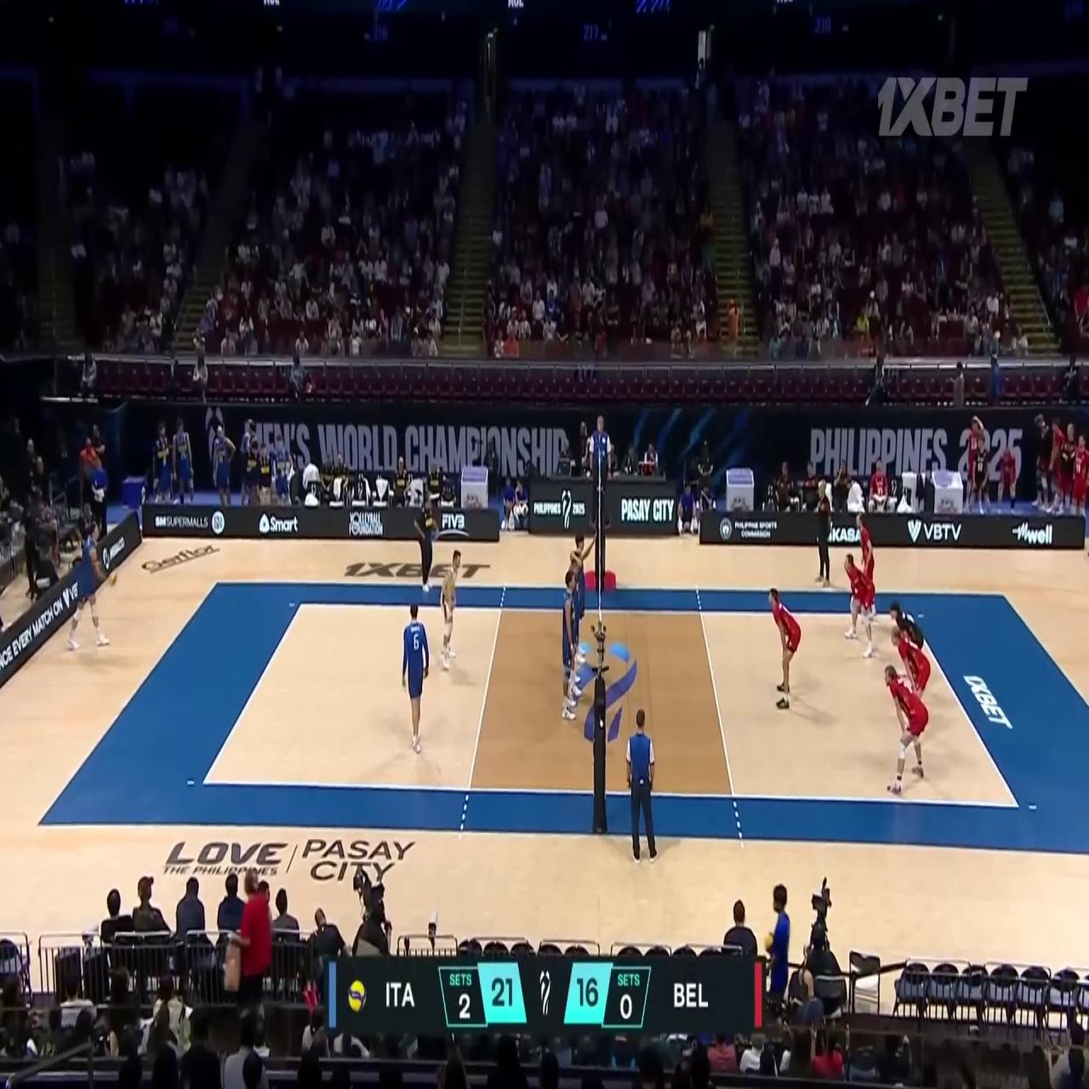ball: (111, 571, 118, 585)
